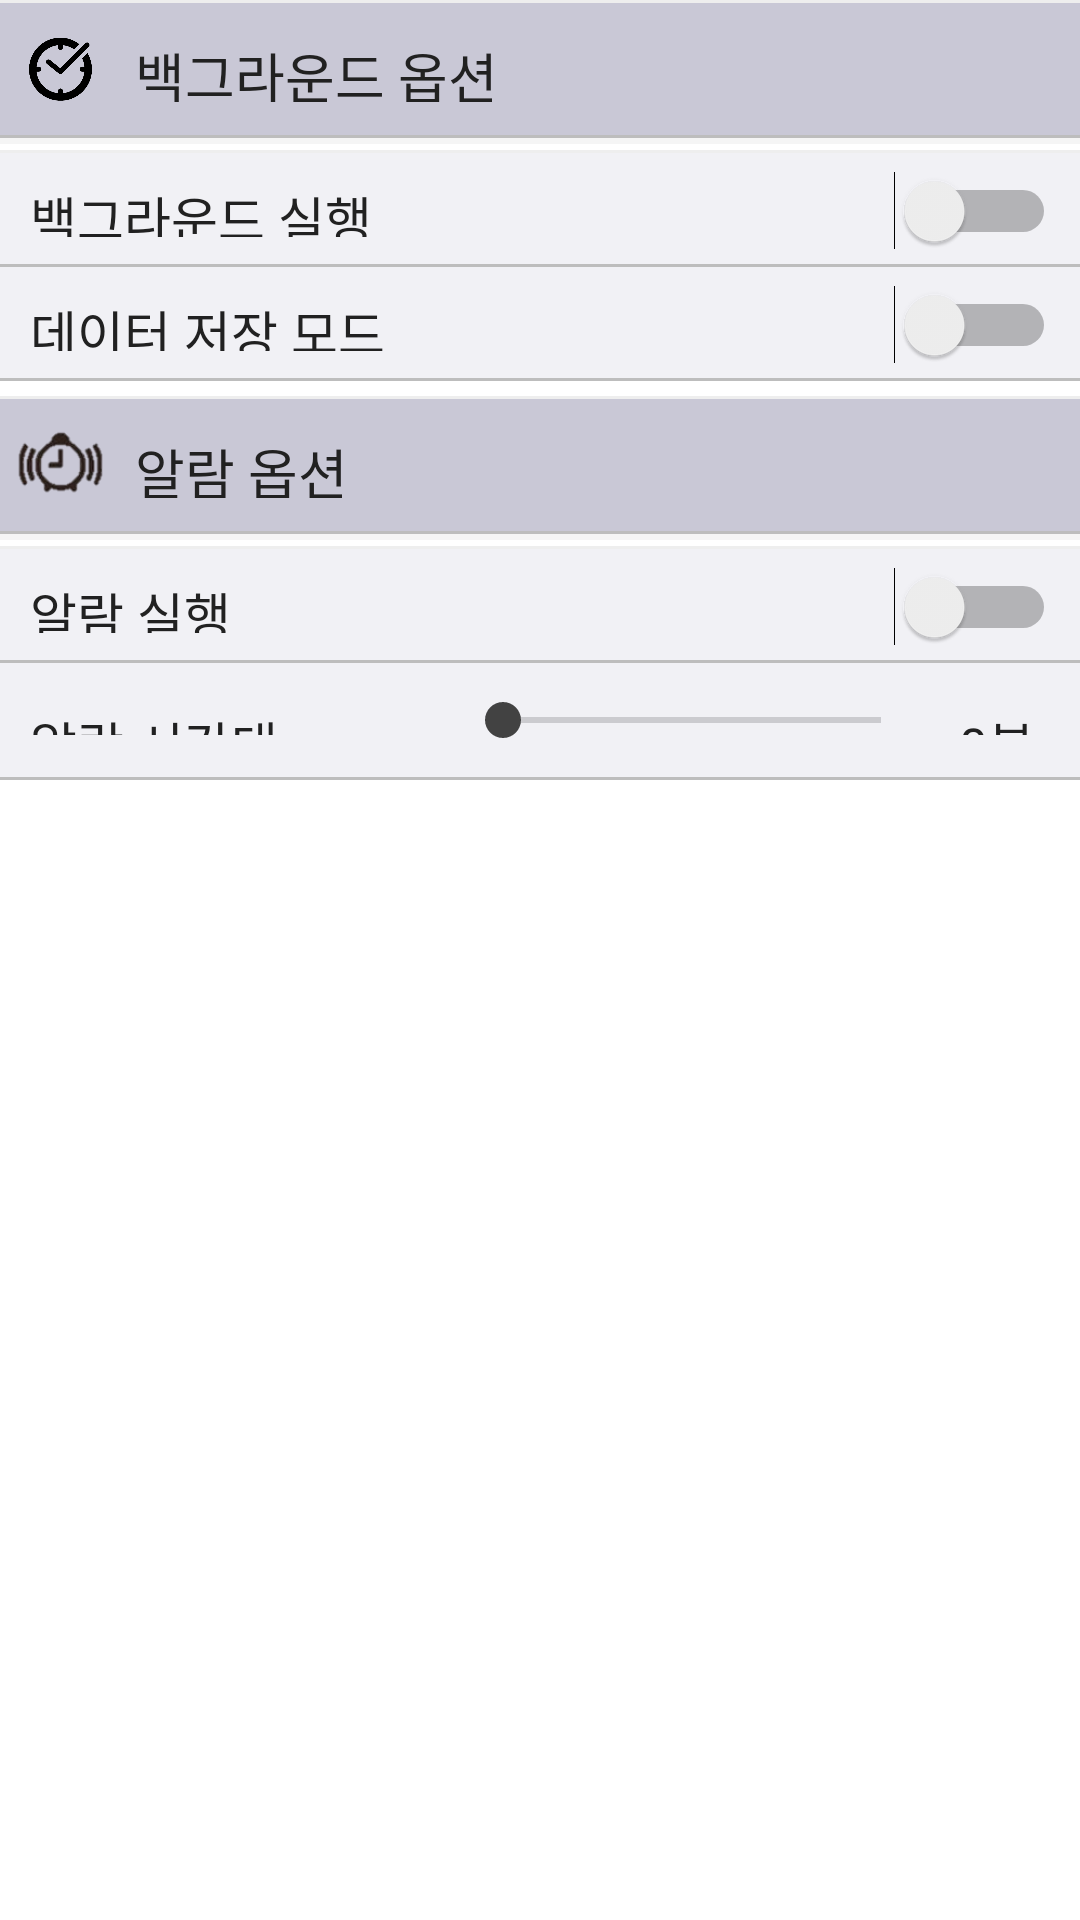

Icons on this 1080px x 1920px Android screen, each with its box as (x1, y1, x2, y2):
frag option alarm: (18, 432, 103, 492)
